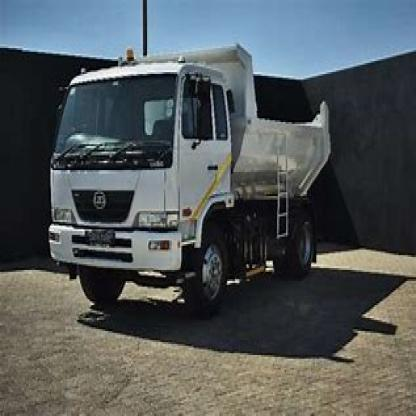dump_truck: (39, 31, 335, 320)
